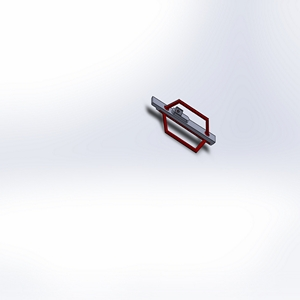submarine: (142, 77, 221, 169)
